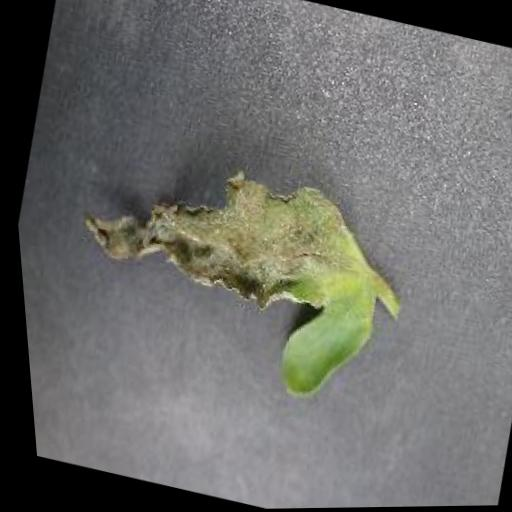Late Blight: (42, 126, 406, 415)
